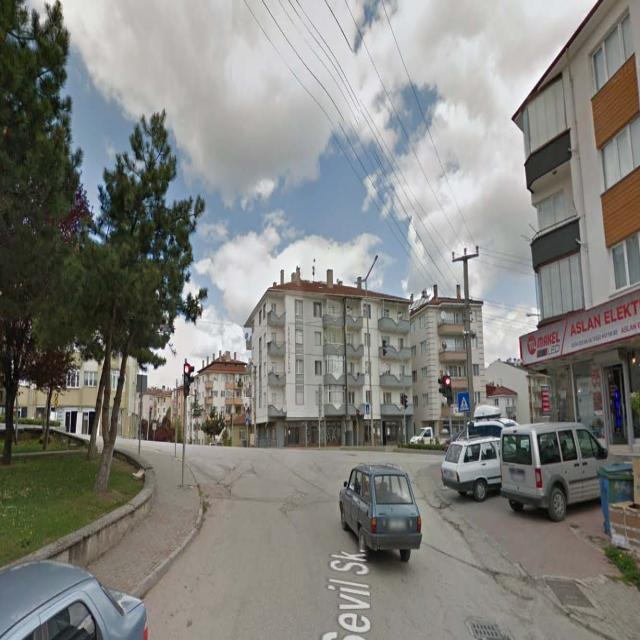kirmizi: (444, 374, 452, 402), (183, 361, 189, 395)
